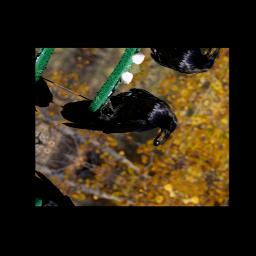Crow: (53, 62, 187, 167)
